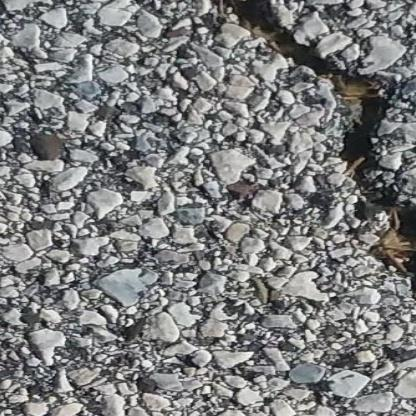Cracks: (198, 0, 416, 366)
